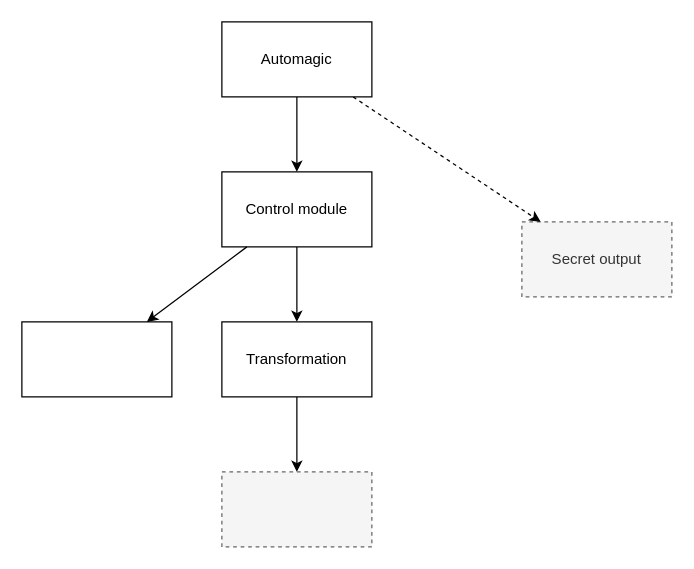
This 694x569 diagram has some shape labels left out. Here are the shapes that lost their labels. From the top down, the centre of each, then its label:
At (96,359): "Main input".
At (296,509): "Secret input".
